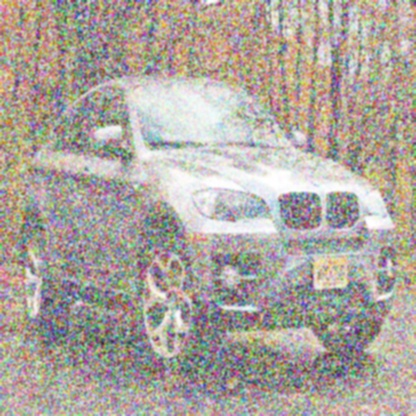Vehicle: (19, 72, 402, 376)
